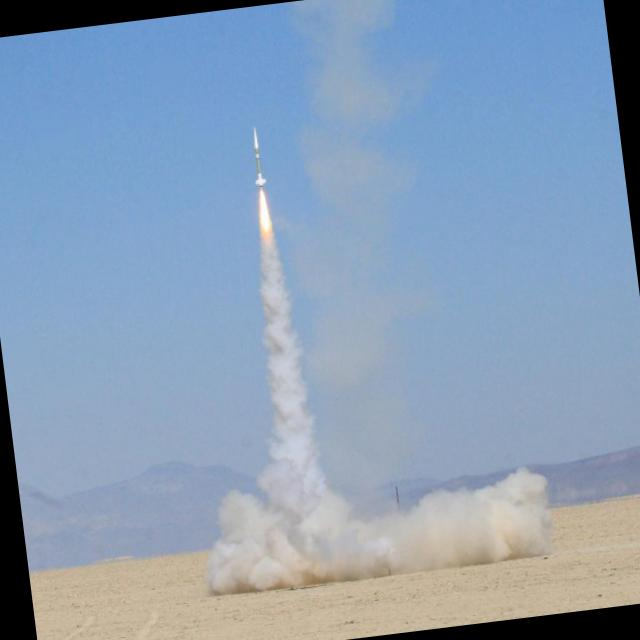rocket: (243, 126, 295, 410)
